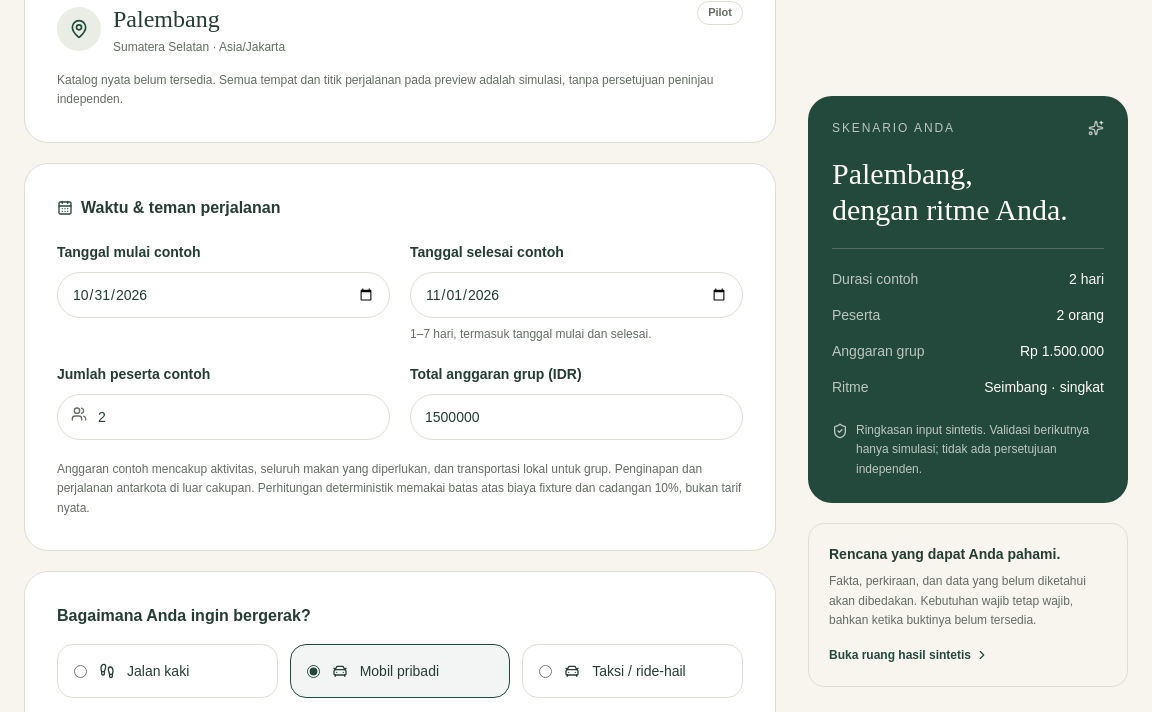
it: synthetic traveler intake › retains inputs when returning and focuses a recoverable error without proceeding
(page scrolled)
Replace the text in the field labelled "Total anggaran grup (IDR)" with "0": (576, 417) [410, 394, 743, 440]
(page scrolled)
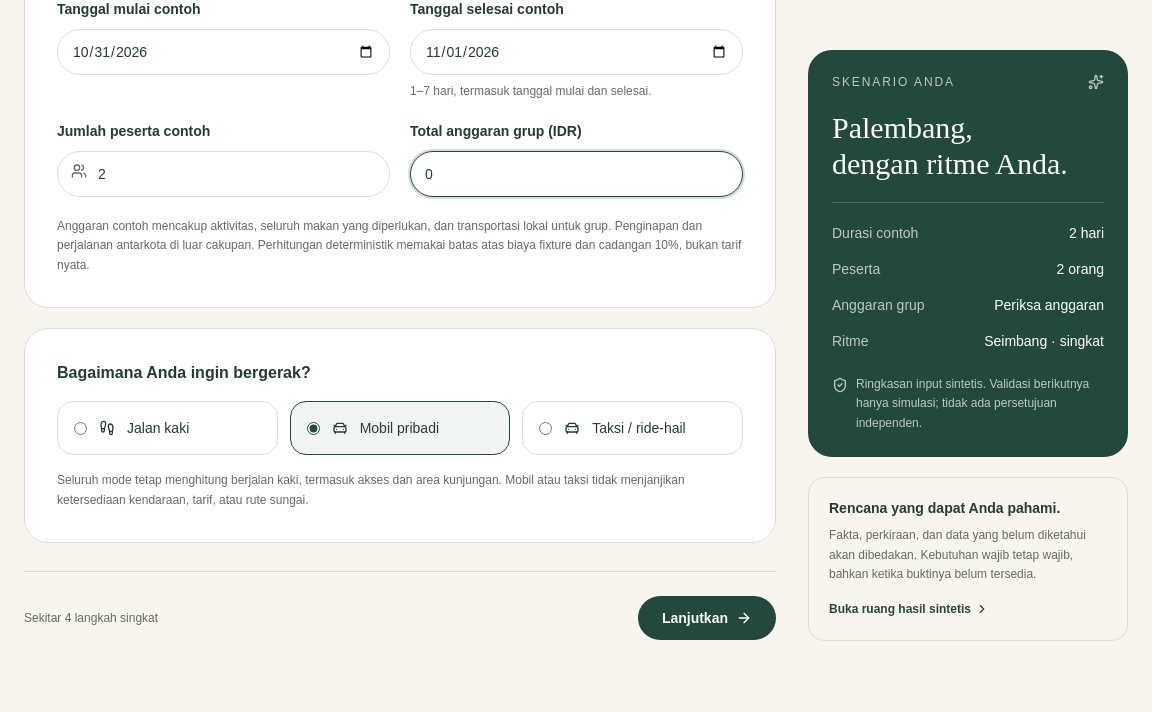
Click the button "Lanjutkan": (707, 618) [638, 596, 776, 640]
(page scrolled)
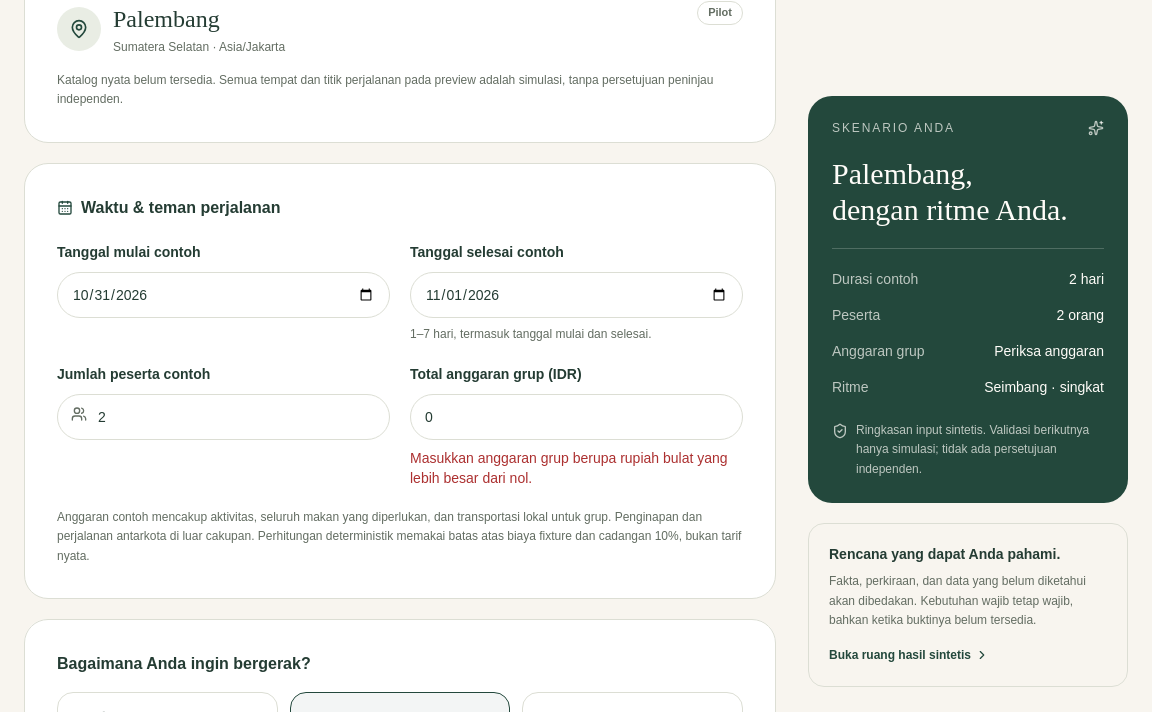
Replace the text in the field labelled "Total anggaran grup (IDR)" with "2000000": (576, 417) [410, 394, 743, 440]
(page scrolled)
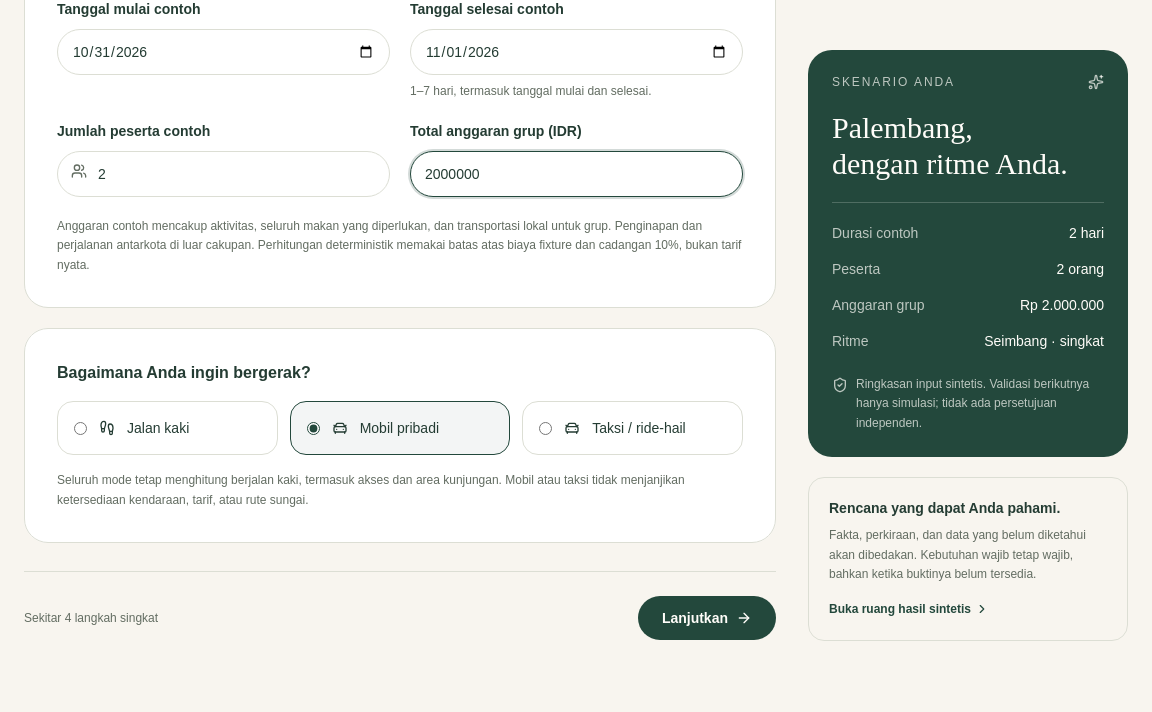
Click the button "Lanjutkan": (707, 618) [638, 596, 776, 640]
(page scrolled)
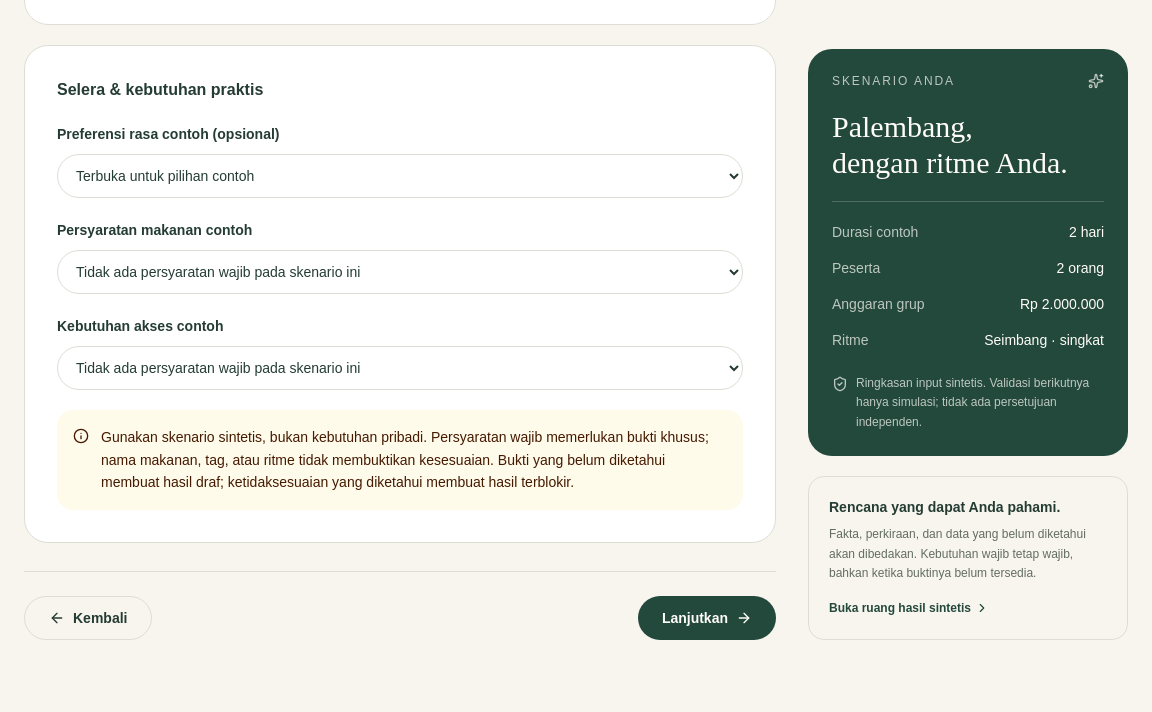
Click the button "Kembali": (88, 618) [24, 596, 152, 640]
(page scrolled)
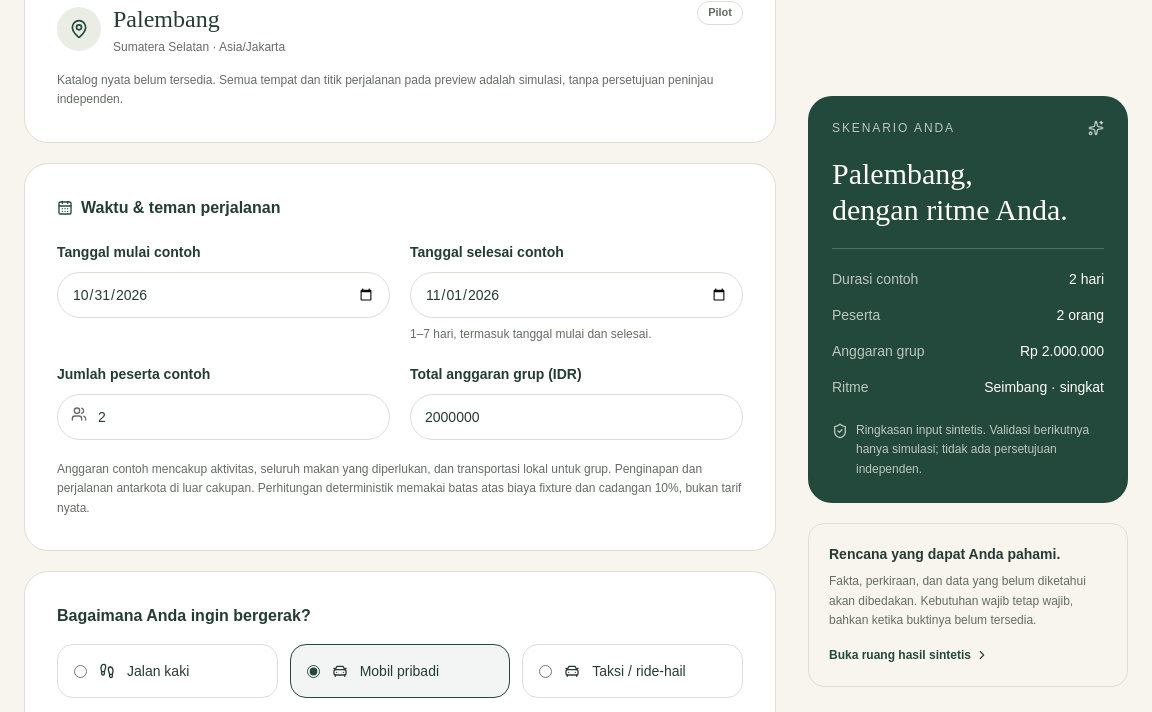
Result: the field labelled "Total anggaran grup (IDR)" holds "2000000" at [410, 394, 743, 440]
